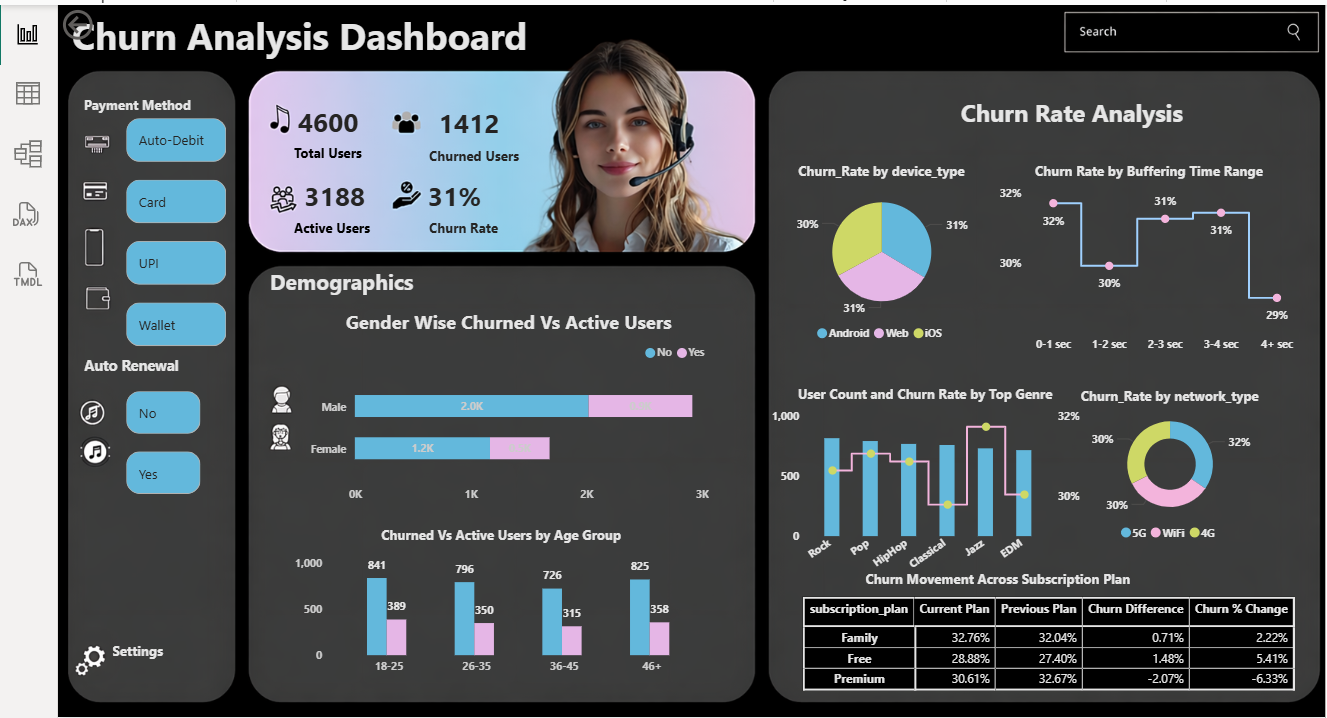

The dashboard page shown, as its layout file describes it:
{"tool":"powerbi","page":{"name":"Page 1","canvas":[1280,720],"ordinal":0},"visuals":[{"type":"textbox","box":[9.4,0,704.9,85],"z":0},{"type":"card","fields":{"Values":["churn_analysis_dataset.Total_Users"]},"box":[182.9,64.3,178.6,110],"z":1000},{"type":"card","fields":{"Values":["churn_analysis_dataset.Churn_Users"]},"box":[324.3,71.4,181.4,97.1],"z":2000},{"type":"card","fields":{"Values":["churn_analysis_dataset.Active_Users"]},"box":[187.1,137.1,182.9,111.4],"z":3000},{"type":"card","fields":{"Values":["churn_analysis_dataset.Churn_Rate"]},"box":[304.3,127.1,191.4,131.4],"z":4000},{"type":"barChart","title":"Gender Wise Churned Vs Active Users","fields":{"Category":["churn_analysis_dataset.gender"],"Y":["CountNonNull(churn_analysis_dataset.user_id)"],"Series":["churn_analysis_dataset.is_churned"]},"box":[248.3,307.4,413.4,202.9],"z":5000},{"type":"clusteredColumnChart","title":"Churned Vs Active Users by Age Group","fields":{"Category":["churn_analysis_dataset.age_group"],"Y":["CountNonNull(churn_analysis_dataset.user_id)"],"Series":["churn_analysis_dataset.is_churned"]},"box":[232.9,525.7,428.6,158.6],"z":6000},{"type":"pieChart","fields":{"Category":["churn_analysis_dataset.device_type"],"Y":["churn_analysis_dataset.Churn_Rate"]},"box":[730,157.1,202.9,191.4],"z":7000},{"type":"lineChart","title":"Churn Rate by Buffering Time Range","fields":{"Category":["churn_analysis_dataset.Buffering_Time_Group"],"Y":["churn_analysis_dataset.Churn_Rate"]},"box":[944.3,157.1,312.9,201.4],"z":8000},{"type":"lineClusteredColumnComboChart","title":"User Count and Churn Rate by Top Genre","fields":{"Category":["churn_analysis_dataset.top_genre"],"Y":["CountNonNull(churn_analysis_dataset.user_id)"],"Y2":["churn_analysis_dataset.Churn_Rate"]},"box":[714.3,382.9,321.4,195.7],"z":9000},{"type":"donutChart","fields":{"Category":["churn_analysis_dataset.network_type"],"Y":["churn_analysis_dataset.Churn_Rate"]},"box":[987.1,384.3,270,165.7],"z":10000},{"type":"pivotTable","fields":{"Rows":["churn_analysis_dataset.subscription_plan"],"Values":["churn_analysis_dataset.Current_Plan_Churn_Rate","churn_analysis_dataset.Previous_Plan_Churn_Rate","churn_analysis_dataset.Churn_Difference","churn_analysis_dataset.Churn % Change"]},"box":[747.1,591.4,532.9,114.3],"z":11000},{"type":"actionButton","box":[0,0,100,40],"z":12000},{"type":"textbox","box":[810,564.3,354.3,84.3],"z":13000},{"type":"advancedSlicerVisual","fields":{"Values":["churn_analysis_dataset.payment_method"]},"box":[63.3,108.3,111.7,240],"z":14000},{"type":"advancedSlicerVisual","fields":{"Values":["churn_analysis_dataset.auto_renewal_enabled"]},"box":[62.9,384.3,85.7,114.3],"z":15000},{"type":"textbox","box":[232.9,134.3,91.4,40],"z":16000},{"type":"textbox","box":[21.4,85.7,152.9,34.3],"z":17000},{"type":"textbox","box":[370,137.1,125.7,37.1],"z":18000},{"type":"textbox","box":[232.9,210,114.3,28.6],"z":19000},{"type":"textbox","box":[370,210,135.7,38.6],"z":20000},{"type":"textbox","box":[21.4,348.6,152.9,34.3],"z":21000},{"type":"textbox","box":[209.5,258.2,325.8,48.7],"z":22000},{"type":"textbox","box":[50,637.1,137.1,47.1],"z":23000},{"type":"textbox","box":[831.4,85.7,384.3,191.4],"z":24000}]}

Visuals, with their boxes on the page's 1280x720 design canvas (x1, y1, x2, y2). These are canvas units, not pixel positions in the 1327x718 screenshot, which may show the page scaled, cropped or inside an application window:
textbox: bbox(9, 0, 714, 85)
card - churn_analysis_dataset.Total_Users: bbox(183, 64, 362, 174)
card - churn_analysis_dataset.Churn_Users: bbox(324, 71, 506, 168)
card - churn_analysis_dataset.Active_Users: bbox(187, 137, 370, 248)
card - churn_analysis_dataset.Churn_Rate: bbox(304, 127, 496, 258)
"Gender Wise Churned Vs Active Users" barChart: bbox(248, 307, 662, 510)
"Churned Vs Active Users by Age Group" clusteredColumnChart: bbox(233, 526, 662, 684)
pieChart - churn_analysis_dataset.device_type x churn_analysis_dataset.Churn_Rate: bbox(730, 157, 933, 348)
"Churn Rate by Buffering Time Range" lineChart: bbox(944, 157, 1257, 358)
"User Count and Churn Rate by Top Genre" lineClusteredColumnComboChart: bbox(714, 383, 1036, 579)
donutChart - churn_analysis_dataset.network_type x churn_analysis_dataset.Churn_Rate: bbox(987, 384, 1257, 550)
pivotTable - churn_analysis_dataset.subscription_plan x churn_analysis_dataset.Current_Plan_Churn_Rate: bbox(747, 591, 1280, 706)
actionButton: bbox(0, 0, 100, 40)
textbox: bbox(810, 564, 1164, 649)
advancedSlicerVisual - churn_analysis_dataset.payment_method: bbox(63, 108, 175, 348)
advancedSlicerVisual - churn_analysis_dataset.auto_renewal_enabled: bbox(63, 384, 149, 499)
textbox: bbox(233, 134, 324, 174)
textbox: bbox(21, 86, 174, 120)
textbox: bbox(370, 137, 496, 174)
textbox: bbox(233, 210, 347, 239)
textbox: bbox(370, 210, 506, 249)
textbox: bbox(21, 349, 174, 383)
textbox: bbox(210, 258, 535, 307)
textbox: bbox(50, 637, 187, 684)
textbox: bbox(831, 86, 1216, 277)
